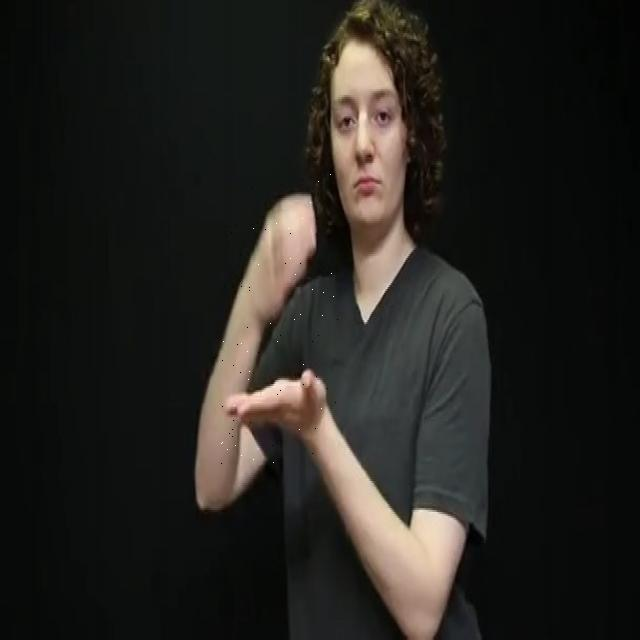cup: (220, 172, 338, 464)
